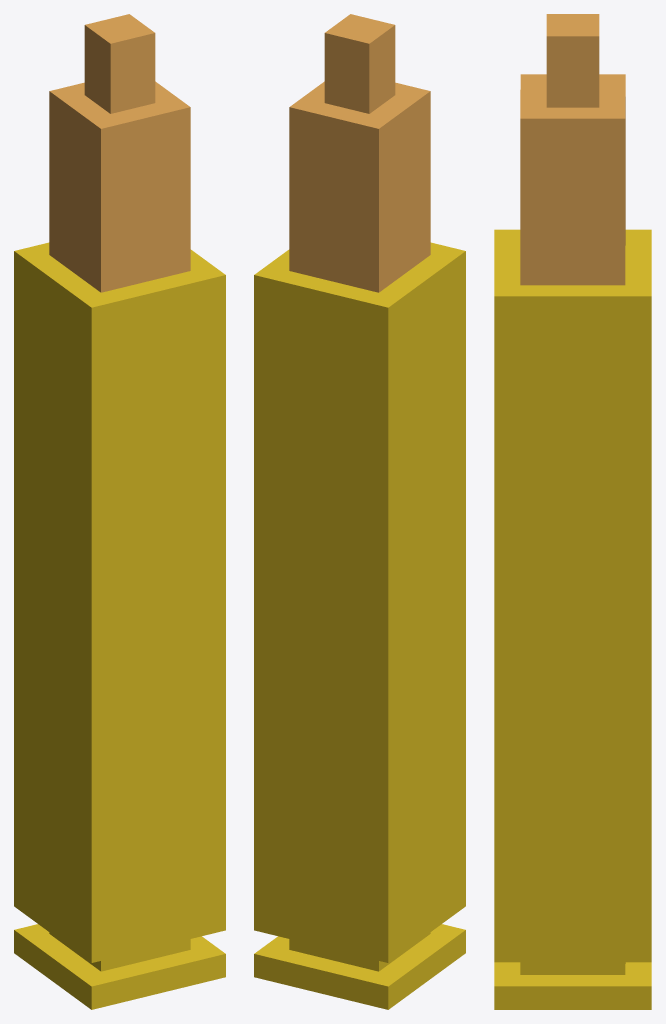
File: assault_rifle_bullet.fbx
The picture shows the model from 3 angles, left to right: view 1: azimuth 30°, elevation 25°; view 2: azimuth 150°, elevation 25°; view 3: azimuth 270°, elevation 25°; orthographic projection.
Parts seen in each view (by area): view 1: assault_rifle_base, assault_rifle_bullet; view 2: assault_rifle_base, assault_rifle_bullet; view 3: assault_rifle_base, assault_rifle_bullet.
Part boxes in pixels (x1,y1,x2,y2): assault_rifle_base: (14, 242, 225, 1009); assault_rifle_bullet: (49, 14, 190, 292); assault_rifle_base: (254, 242, 465, 1009); assault_rifle_bullet: (289, 14, 430, 292); assault_rifle_base: (494, 229, 651, 1009); assault_rifle_bullet: (520, 14, 625, 285).
Size of the model in its own units: 1.8 by 12 by 1.8.
